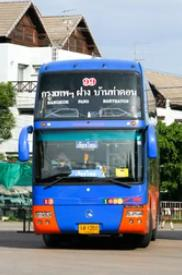vehicle: (19, 58, 160, 248)
